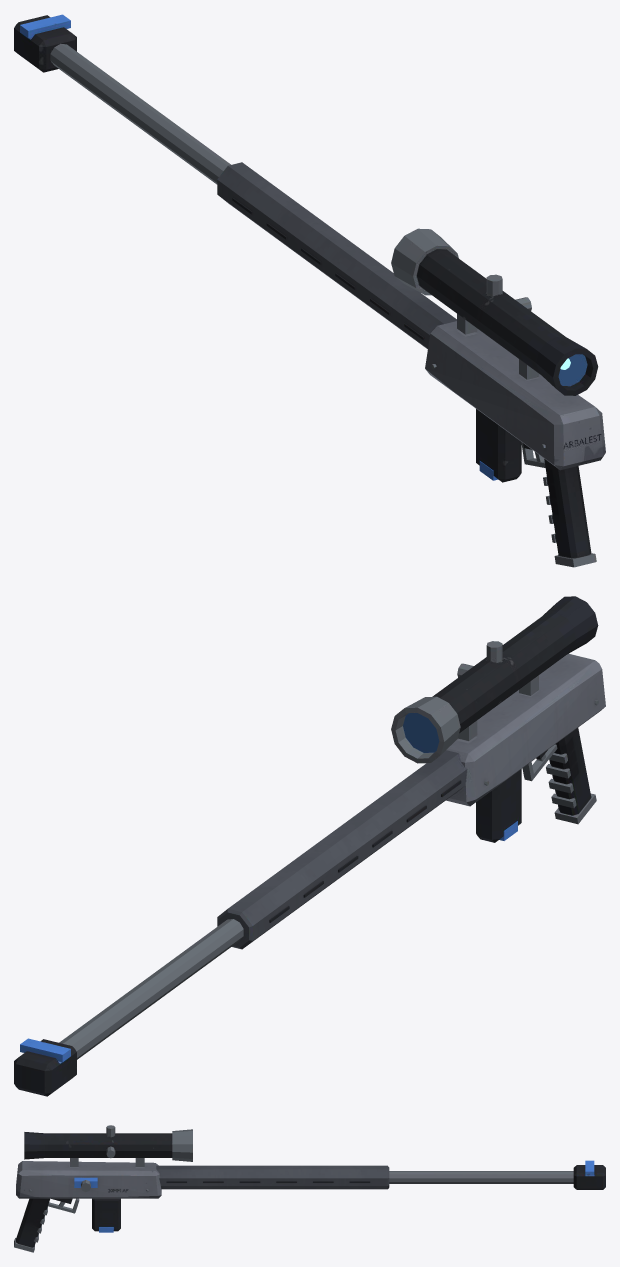
File: arbalest.glb
3 views of the same model, one above another, from view 1: azimuth 30°, elevation 25°; view 2: azimuth 150°, elevation 25°; view 3: azimuth 270°, elevation 25° (orthographic). The views are drawn at different scales.
Visible parts, largest first — view 1: gun|base|; view 2: gun|base|; view 3: gun|base|, bolt|base|.
Part boxes in pixels (x1=…): gun|base|: x1=14, y1=14, x2=605, y2=567; gun|base|: x1=14, y1=596, x2=605, y2=1096; gun|base|: x1=14, y1=1125, x2=605, y2=1252; bolt|base|: x1=74, y1=1177, x2=97, y2=1191.
Bounding box in the file's own units: 0.321 × 0.9245 × 4.04.
Materials: 2 (1 with a texture image).
